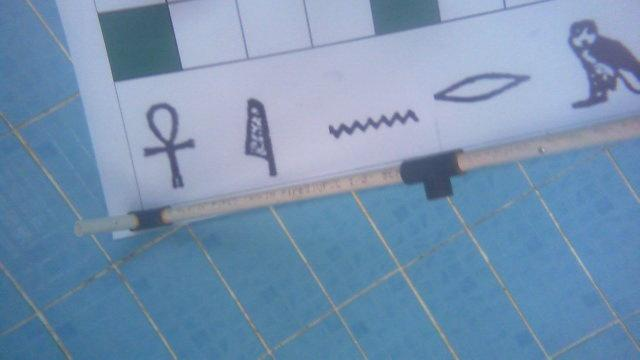Ankh: (135, 101, 203, 194)
Mouth: (433, 67, 535, 106)
Owl: (567, 19, 640, 114)
Reed: (237, 94, 283, 181)
Water: (323, 105, 419, 147)
